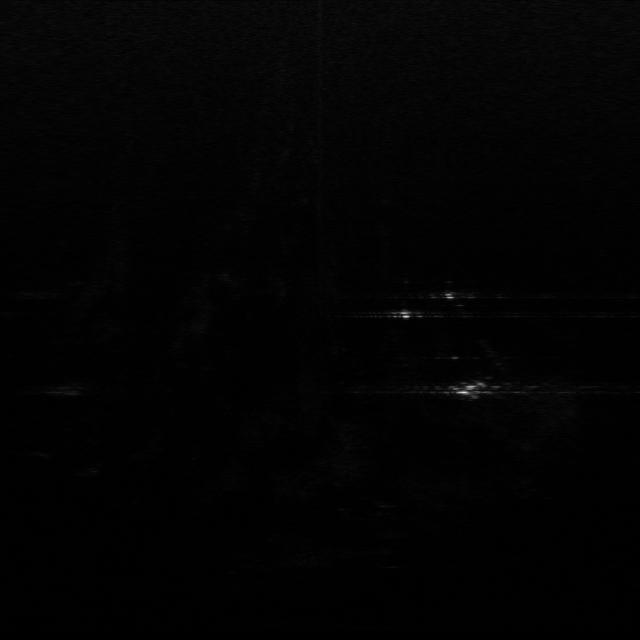rov: (448, 378, 494, 403)
